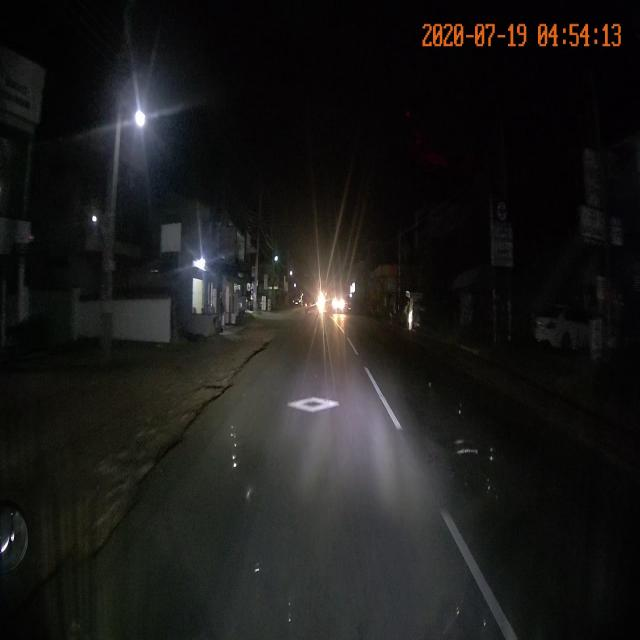Romb: (285, 396, 344, 414)
